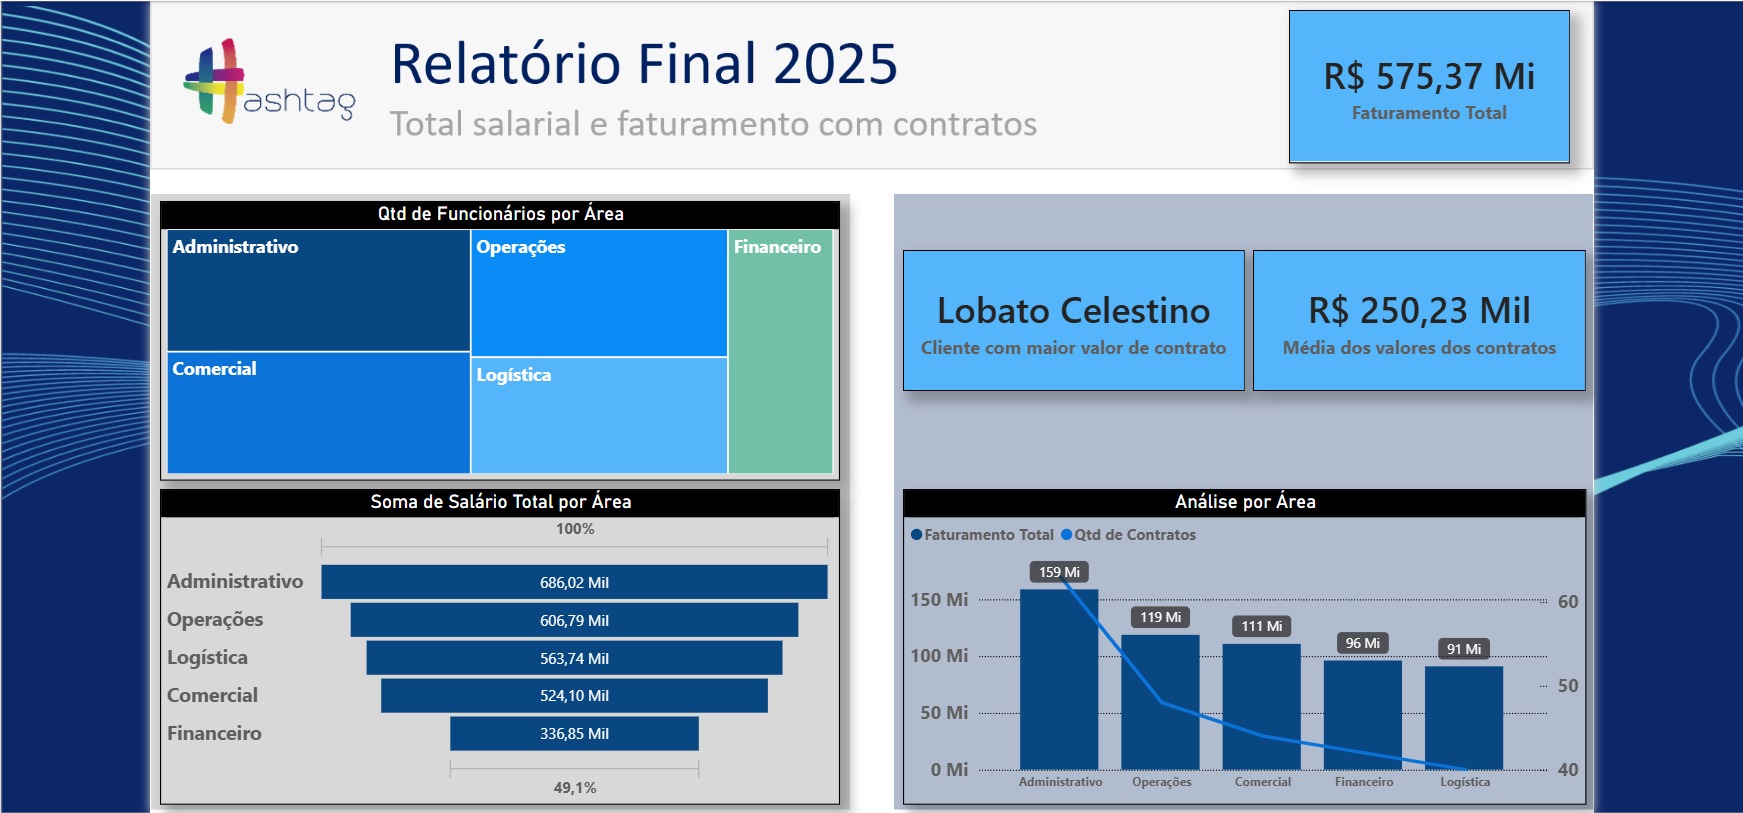

What the dashboard file says about the page in this screenshot:
{"tool":"powerbi","page":{"name":"Página 1","canvas":[1280,720],"ordinal":0},"visuals":[{"type":"treemap","fields":{"Values":["BaseServicosPrestados.Qtd de Funcionários"],"Group":["CadastroCargos.Área"]},"box":[19.5,182.7,579.9,239.4],"z":0},{"type":"cardVisual","fields":{"Data":["Min(CadastroClientes.Cliente)"]},"box":[673.9,220.8,289.1,116.2],"z":1000},{"type":"cardVisual","fields":{"Data":["BaseServicosPrestados.Média dos valores dos contratos"]},"box":[983.3,220.8,282.9,116.2],"z":2000},{"type":"funnel","fields":{"Y":["Sum(CadastroFuncionarios.Salário Total)"],"Category":["CadastroCargos.Área"]},"box":[19.5,438.9,579.9,239.4],"z":3000},{"type":"lineClusteredColumnComboChart","fields":{"Y":["BaseServicosPrestados.Faturamento Total"],"Category":["CadastroCargos.Área"],"Y2":["BaseServicosPrestados.Qtd de Contratos"]},"box":[679.2,438.9,579.9,239.4],"z":4000},{"type":"cardVisual","fields":{"Data":["BaseServicosPrestados.Faturamento Total"]},"box":[1010,8,249.2,135.7],"z":5000}]}

Visuals, with their boxes on the page's 1280x720 design canvas (x1, y1, x2, y2). These are canvas units, not pixel positions in the 1743x813 screenshot, which may show the page scaled, cropped or inside an application window:
treemap - BaseServicosPrestados.Qtd de Funcionários x CadastroCargos.Área: locate(20, 183, 599, 422)
cardVisual - Min(CadastroClientes.Cliente): locate(674, 221, 963, 337)
cardVisual - BaseServicosPrestados.Média dos valores dos contratos: locate(983, 221, 1266, 337)
funnel - Sum(CadastroFuncionarios.Salário Total) x CadastroCargos.Área: locate(20, 439, 599, 678)
lineClusteredColumnComboChart - BaseServicosPrestados.Faturamento Total x CadastroCargos.Área: locate(679, 439, 1259, 678)
cardVisual - BaseServicosPrestados.Faturamento Total: locate(1010, 8, 1259, 144)
